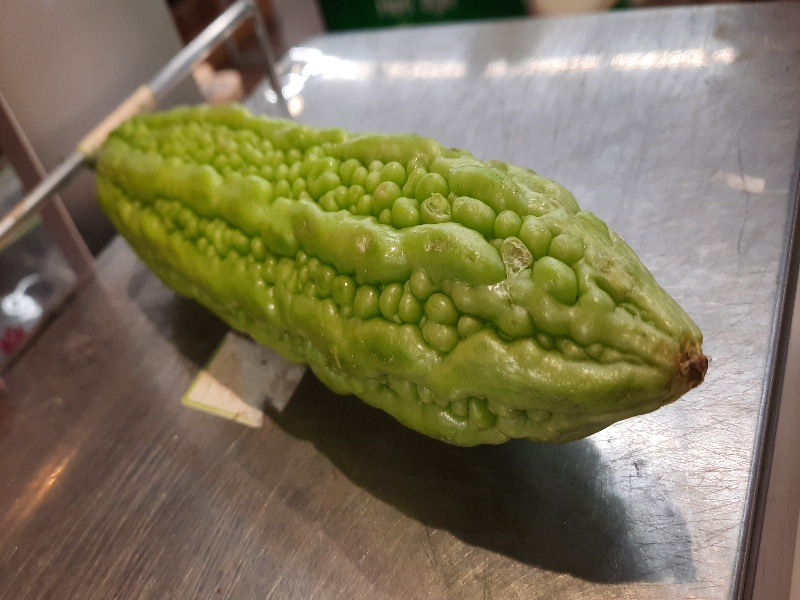vege: (83, 100, 712, 465)
